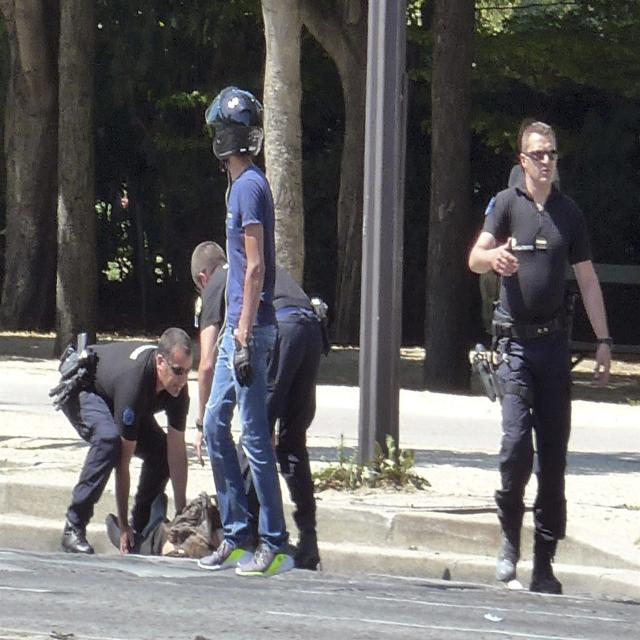body: (466, 116, 614, 599), (196, 84, 297, 578), (190, 242, 323, 570), (47, 324, 195, 558), (105, 489, 224, 559)
